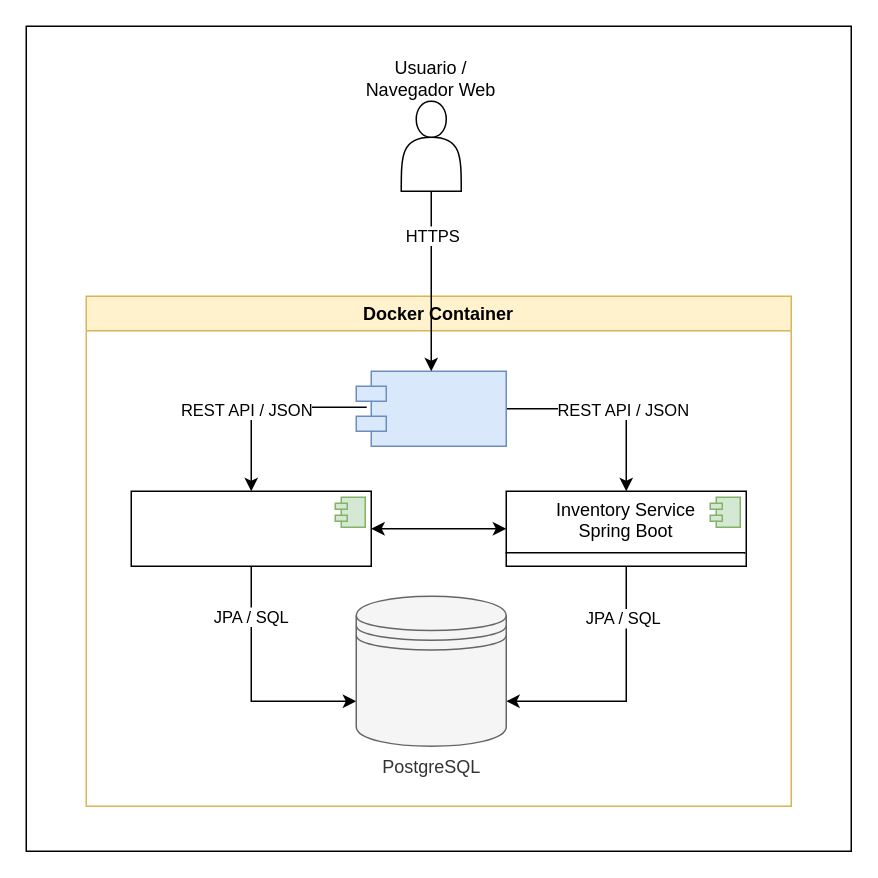
The diagram is 878 pixels wide and 878 high, and some of its shapes have lost their labels. The shapes that lost their labels are listed below. From the top down, each one's centre as x and y in pixels, then its label:
At point 430,408: "App Angular".
At point 250,528: "Products Service Spring Boot".
